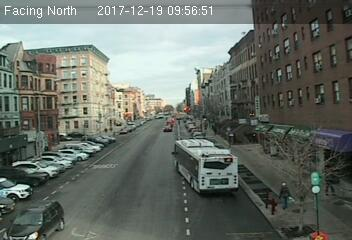bus: (173, 137, 239, 199)
car: (5, 198, 64, 240)
pedestrian: (277, 181, 295, 217)
